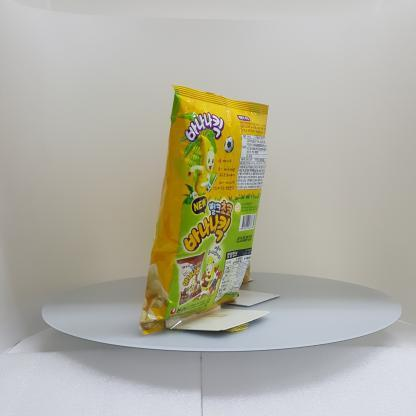Plastic Packaging: (134, 78, 276, 340)
